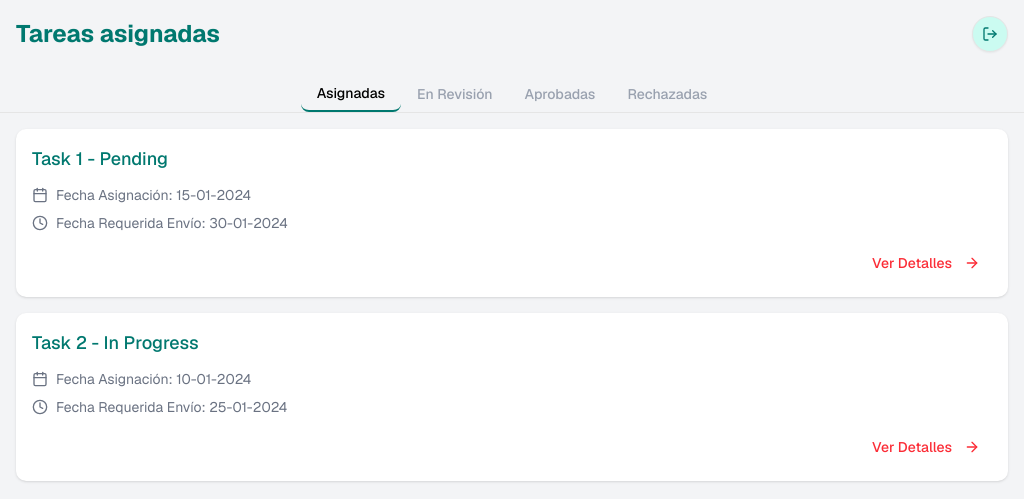
Test: TasksList › should filter tasks by state based on active tab
Expected: the heading "Task 1 - Pending" is shown, [32,147,168,170]
Expected: the heading "Task 2 - In Progress" is shown, [32,331,199,354]
Switch to "En Revisión" tab should show COMPLETED tasks
Click the button "En Revisión": (455, 94) [401,76,509,112]
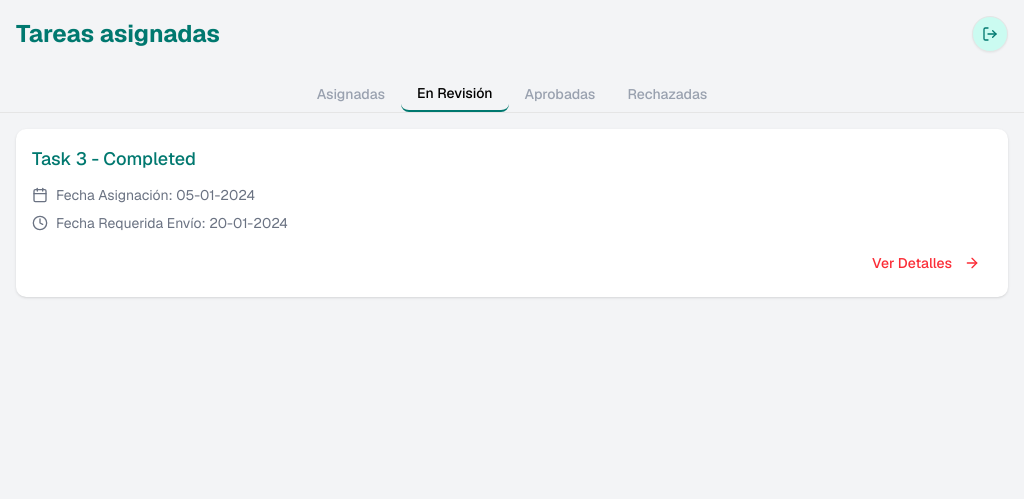
Now the heading "Task 1 - Pending" is gone
Now the heading "Task 2 - In Progress" is gone
Now the heading "Task 3 - Completed" is shown, box [32,147,196,170]
Switch to "Aprobadas" tab should show REVIEWED tasks
Click the button "Aprobadas": (560, 94) [509,76,611,112]
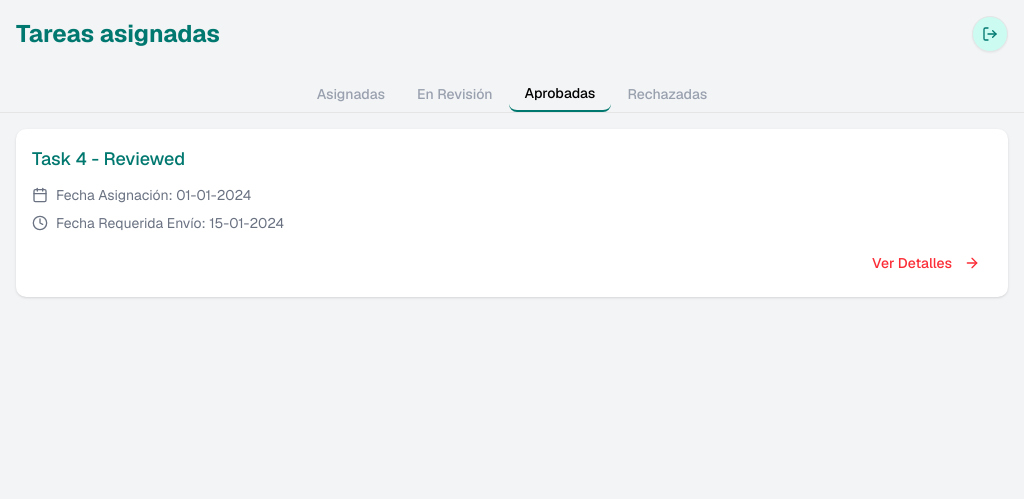
Expected: the heading "Task 1 - Pending" is not shown
Now the heading "Task 3 - Completed" is gone
Now the heading "Task 4 - Reviewed" is shown, box [32,147,185,170]
